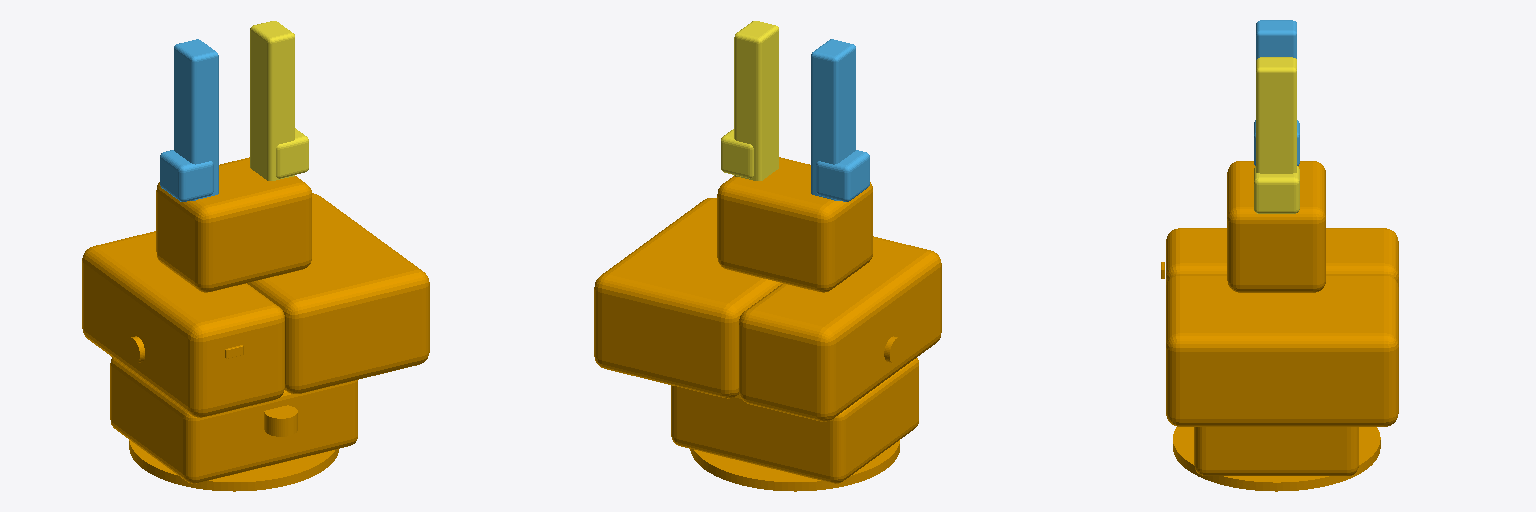
The robot description file, URDF, robot "smc_jmhz2_16d_x7400b":
<?xml version="1.0"?>
<robot name="smc_jmhz2_16d_x7400b">
<link name="mount"><visual ><geometry ><mesh filename="../meshes/mount.obj"/></geometry></visual><collision ><origin xyz="0 0 0.0015" rpy="0 0 0"/><geometry ><cylinder radius="0.0315" length="0.003"/></geometry></collision><collision ><origin xyz="0 0 0.0158" rpy="0 0 0"/><geometry ><box size="0.06 0.05 0.0256"/></geometry></collision><collision ><origin xyz="0.00845 0.0017 0.0441" rpy="0 0 0"/><geometry ><box size="0.0831 0.0706 0.031"/></geometry></collision><collision ><origin xyz="0 0 0.07385" rpy="0 0 0"/><geometry ><box size="0.04 0.03 0.0285"/></geometry></collision></link>
<link name="left_jaw"><visual ><geometry ><mesh filename="../meshes/left_jaw.obj"/></geometry></visual><collision ><origin xyz="-0.0165 0 0.0941" rpy="0 0 0"/><geometry ><box size="0.012 0.014 0.012"/></geometry></collision><collision ><origin xyz="-0.01325 0 0.1104" rpy="0 0 0"/><geometry ><box size="0.0095 0.0125 0.0492"/></geometry></collision></link>
<link name="left_contact"></link>
<link name="right_jaw"><visual ><geometry ><mesh filename="../meshes/right_jaw.obj"/></geometry></visual><collision ><origin xyz="0.0165 0 0.0941" rpy="0 0 0"/><geometry ><box size="0.012 0.014 0.012"/></geometry></collision><collision ><origin xyz="0.01325 0 0.1104" rpy="0 0 0"/><geometry ><box size="0.0095 0.0125 0.0492"/></geometry></collision></link>
<link name="right_contact"></link>
<link name="tcp"></link>
<joint name="finger_joint" type="prismatic"><parent link="mount"/><child link="left_jaw"/><origin xyz="0 0 0" rpy="0 0 0"/><axis xyz="-1 0 0"/><limit lower="0" upper="0.005" velocity="0.05" effort="33"/></joint>
<joint name="left_contact_joint" type="fixed"><parent link="left_jaw"/><child link="left_contact"/><origin xyz="-0.0085 0 0.122" rpy="0 0 0"/></joint>
<joint name="finger_mirror_joint" type="prismatic"><parent link="mount"/><child link="right_jaw"/><origin xyz="0 0 0" rpy="0 0 0"/><axis xyz="1 0 0"/><limit lower="0" upper="0.005" velocity="0.05" effort="33"/><mimic joint="finger_joint" multiplier="1" offset="0"/></joint>
<joint name="right_contact_joint" type="fixed"><parent link="right_jaw"/><child link="right_contact"/><origin xyz="0.0085 0 0.122" rpy="0 0 0"/></joint>
<joint name="tcp_joint" type="fixed"><parent link="mount"/><child link="tcp"/><origin xyz="0 0 0.122" rpy="0 0 0"/></joint>
</robot>

--- Facts derived from the render (not from the file) ---
Views: 3 orthographic renders of the robot side by side, from view 1: azimuth 30°, elevation 25°; view 2: azimuth 150°, elevation 25°; view 3: azimuth 270°, elevation 25°.
Robot: smc_jmhz2_16d_x7400b — 6 links, 5 joints (2 prismatic, 3 fixed); root link mount; default pose: every joint at zero.
Links seen in each view (by area): view 1: mount, left_jaw, right_jaw; view 2: mount, left_jaw, right_jaw; view 3: mount, right_jaw, left_jaw.
Link boxes in pixels (x1,y1,x2,y2): mount: (82,157,429,491); left_jaw: (160,39,218,201); right_jaw: (250,21,308,180); mount: (594,157,941,491); left_jaw: (811,39,869,201); right_jaw: (721,21,778,180); mount: (1161,161,1398,491); right_jaw: (1254,57,1299,213); left_jaw: (1254,20,1299,165).
Bounding box of the posed robot: 0.085 × 0.072 × 0.135 m (x, y, z).
3 mesh visuals loaded from 3 distinct referenced files (3 OBJ).
